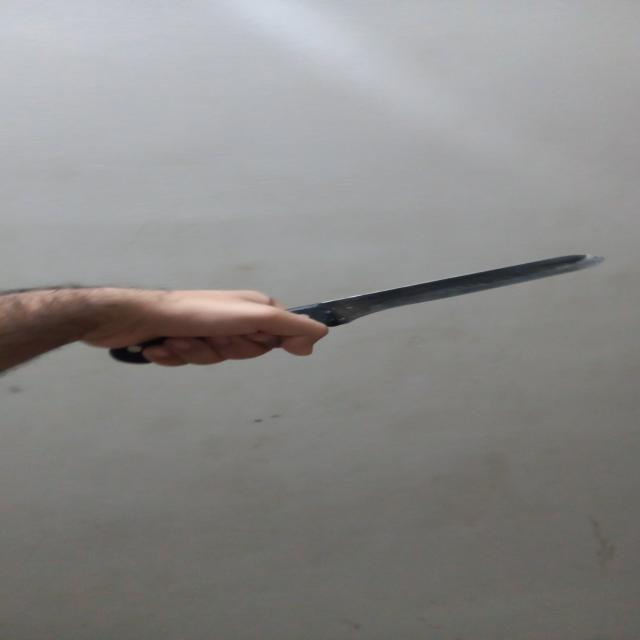Knife: (86, 249, 622, 370)
